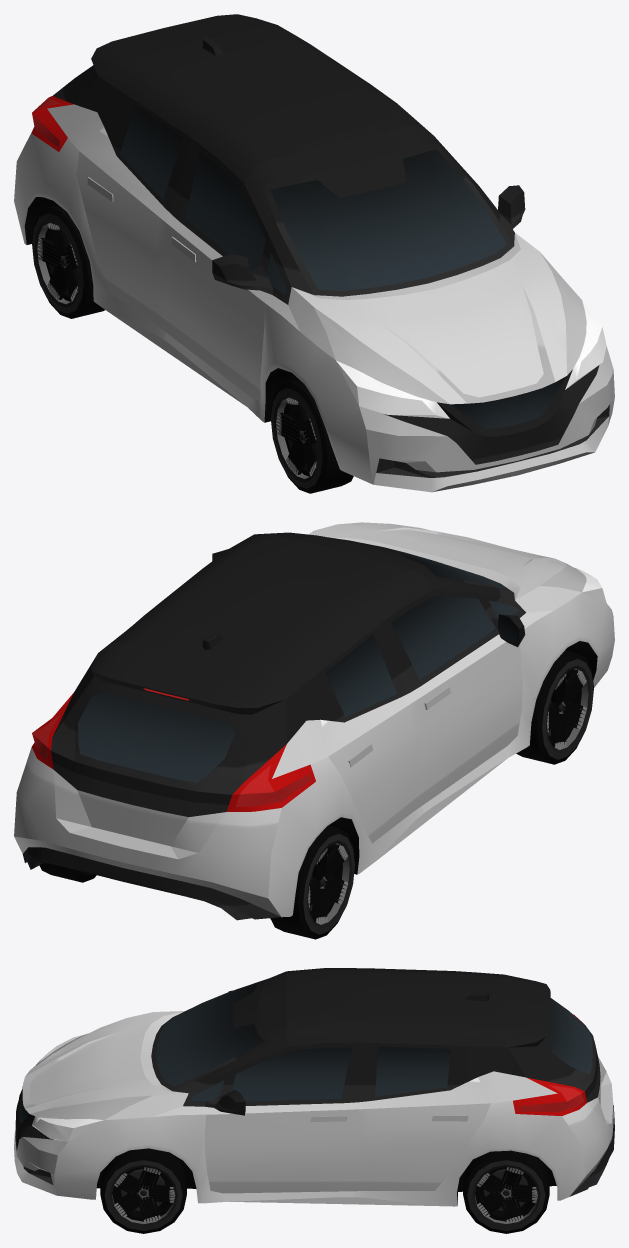
Rendered from Simple_Japanese_Car_V20.fbx.
3 renders of one model, top to bottom at view 1: azimuth 30°, elevation 25°; view 2: azimuth 150°, elevation 25°; view 3: azimuth 270°, elevation 25°, orthographic. The views are drawn at different scales.
Visible parts, largest first — view 1: Body.011, FR.007, RR.007; view 2: Body.011, RR.007, FR.007, RL.007; view 3: Body.011, FL.007, RL.007.
Part boxes in pixels (left/top/right/bottom): Body.011: left=14, top=14, right=614, bottom=492; FR.007: left=270, top=379, right=353, bottom=493; RR.007: left=32, top=205, right=104, bottom=318; Body.011: left=14, top=522, right=614, bottom=920; RR.007: left=270, top=825, right=355, bottom=939; FR.007: left=516, top=650, right=593, bottom=764; RL.007: left=39, top=863, right=96, bottom=882; Body.011: left=14, top=968, right=614, bottom=1206; FL.007: left=100, top=1148, right=186, bottom=1233; RL.007: left=463, top=1150, right=549, bottom=1233.
Bounding box in the file's own units: 1.93 × 1.52 × 4.32.
2 materials, 2 textured.
